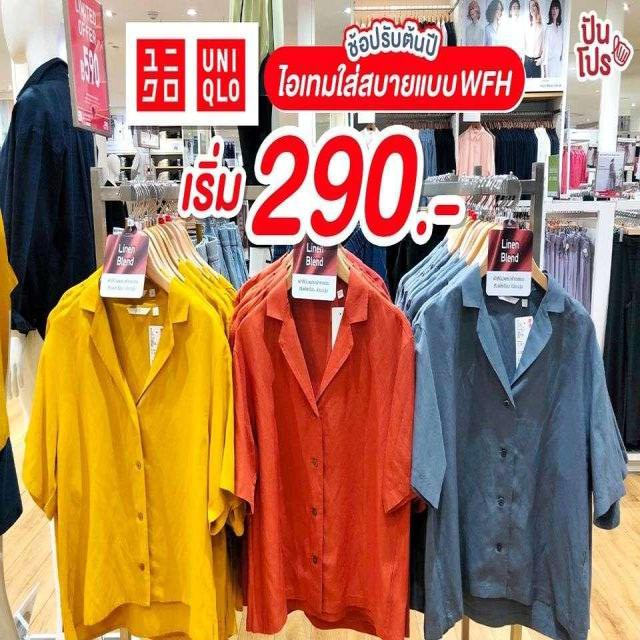shirt: (402, 267, 632, 640), (22, 279, 245, 640), (224, 289, 420, 640)
